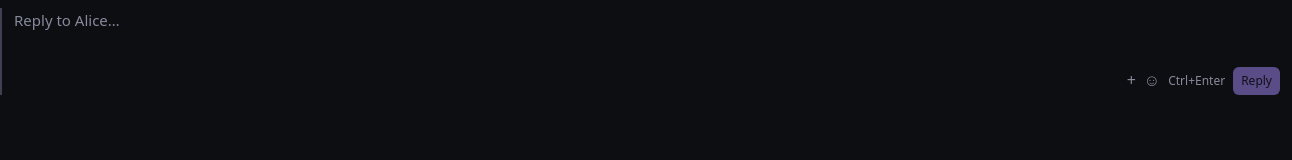
InlineReplyBox: a reply that did not go out › clears the message when the next try works
This screenshot has width=1292, height=160.
Type "my reply" into the text box with placeholder "Reply to Alice…" at (647, 32), box [14,8,1280,57]
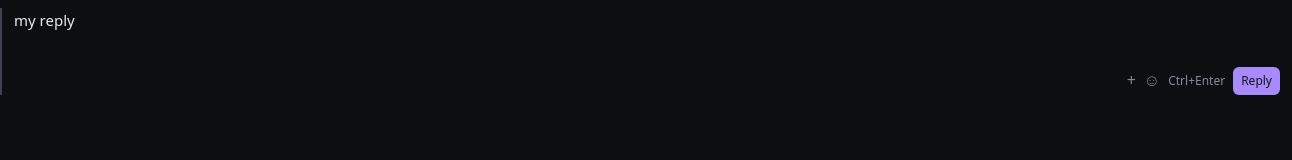
Click the button "Reply" at (1257, 81), box [1233,67,1280,95]
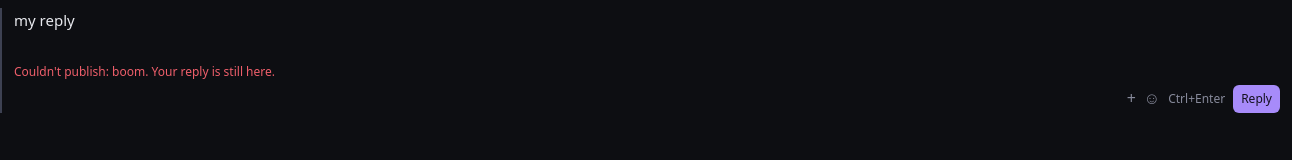
Result: the text "Couldn't publish: boom. Your reply is still here." is shown at [14,63,275,80]
Click the button "Reply" at (1257, 99), box [1233,85,1280,113]
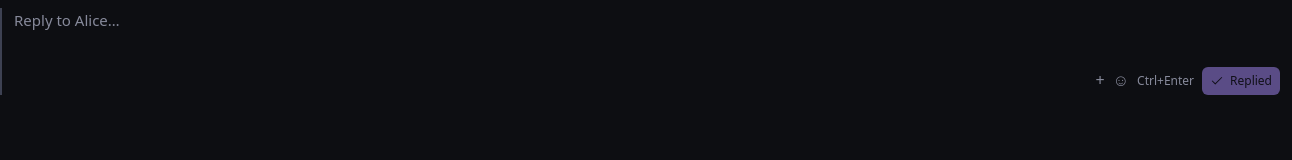
Result: the text "Couldn't publish" is gone
Result: the text box with placeholder "Reply to Alice…" is empty at [14,8,1280,57]
